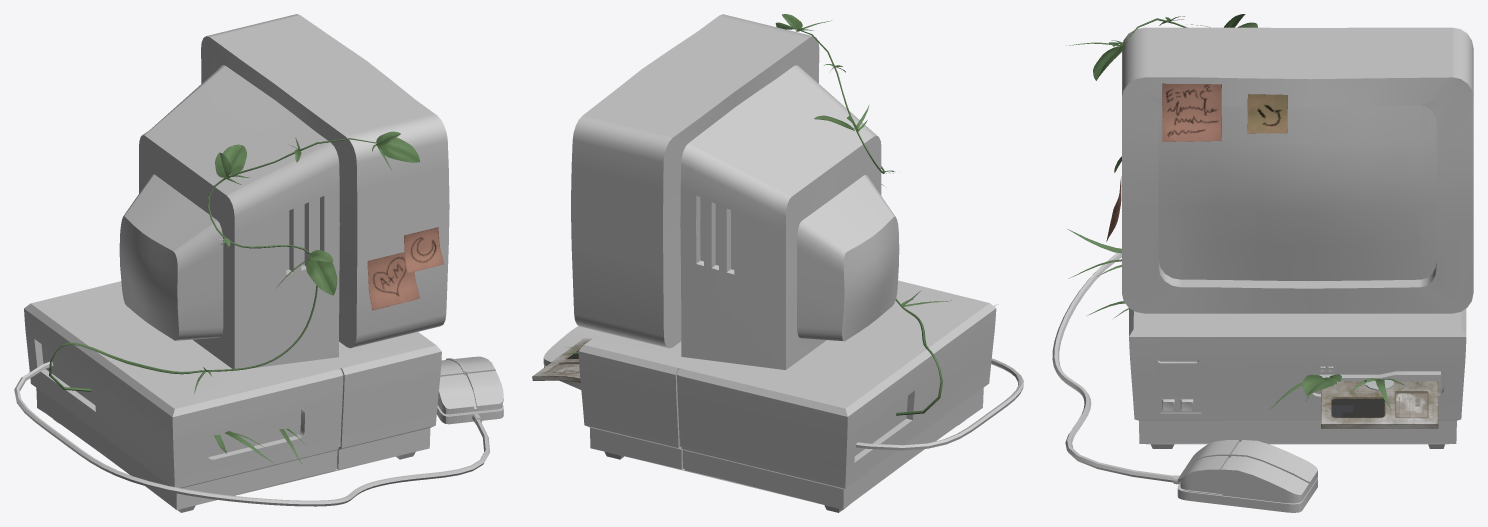
3 views of the same model, side by side, from view 1: azimuth 30°, elevation 25°; view 2: azimuth 150°, elevation 25°; view 3: azimuth 270°, elevation 25° (orthographic). The views are drawn at different scales.
Parts seen in each view (by area): view 1: PC, HOJAS, NOTAS; view 2: PC, HOJAS, CD; view 3: PC, CD, NOTAS, HOJAS.
Part boxes in pixels (x1,y1,x2,y2): PC: (14, 14, 503, 512); HOJAS: (49, 131, 419, 463); NOTAS: (367, 227, 443, 310); PC: (543, 14, 1023, 512); HOJAS: (563, 14, 995, 415); CD: (532, 338, 591, 382); PC: (1052, 27, 1473, 512); CD: (1321, 380, 1438, 428); NOTAS: (1106, 83, 1287, 241); HOJAS: (1067, 14, 1403, 408).
Bounding box in the file's own units: 0.7 × 0.5282 × 0.5197.
